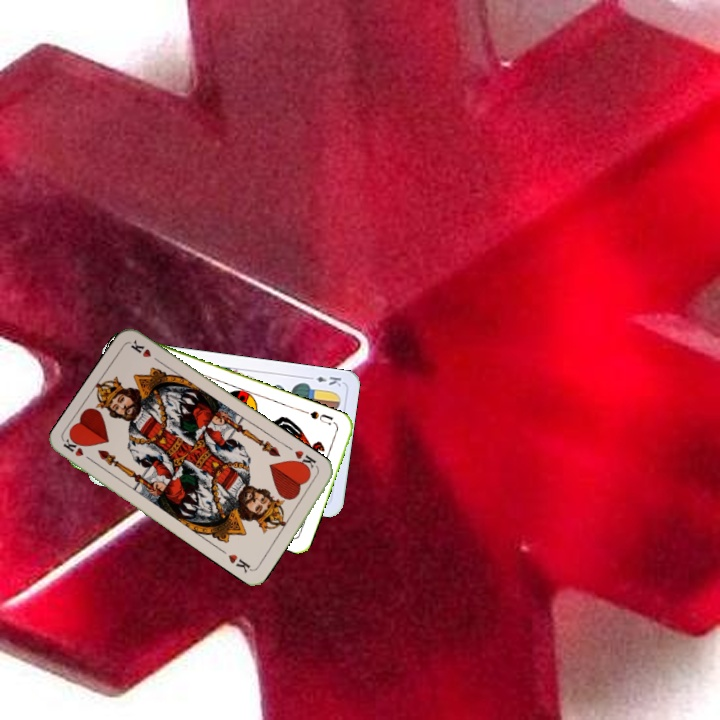EK: (303, 372, 344, 389)
HK: (60, 434, 97, 466), (288, 446, 321, 475)
SU: (306, 407, 336, 428)
